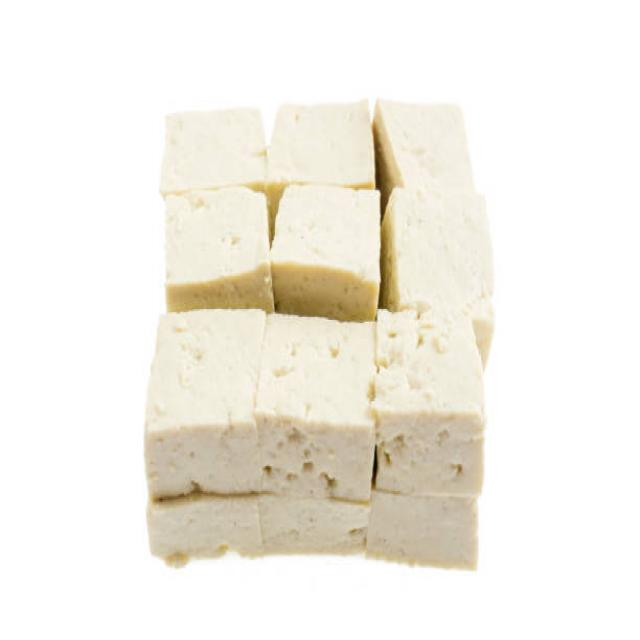Tofu Block: (371, 293, 486, 572), (261, 308, 375, 506), (144, 304, 260, 498), (380, 183, 497, 307), (273, 178, 379, 310), (161, 183, 270, 302), (270, 96, 376, 184)
